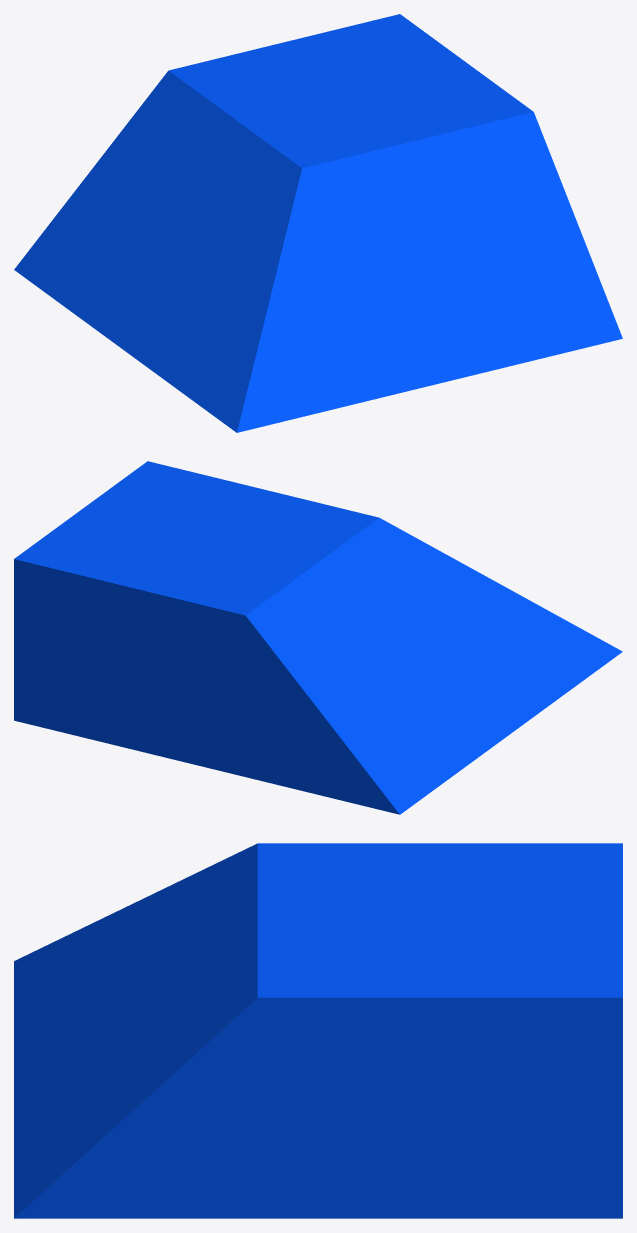
The model's file is COL_Floor-Stairs-Layered-Narrow-Corner-Convex-Deep.FBX.
The picture shows the model from 3 angles, top to bottom: view 1: azimuth 30°, elevation 25°; view 2: azimuth 150°, elevation 25°; view 3: azimuth 270°, elevation 25°; orthographic projection. The views are drawn at different scales.
Parts seen in each view (by area): view 1: COL_Floor-Stairs-Layered-Narrow-Corner-Convex-Deep; view 2: COL_Floor-Stairs-Layered-Narrow-Corner-Convex-Deep; view 3: COL_Floor-Stairs-Layered-Narrow-Corner-Convex-Deep.
Part boxes in pixels (x1,y1,x2,y2): COL_Floor-Stairs-Layered-Narrow-Corner-Convex-Deep: (14,14,622,432); COL_Floor-Stairs-Layered-Narrow-Corner-Convex-Deep: (14,461,622,814); COL_Floor-Stairs-Layered-Narrow-Corner-Convex-Deep: (14,843,622,1218).
Size of the model in its own units: 25 by 10 by 25.
